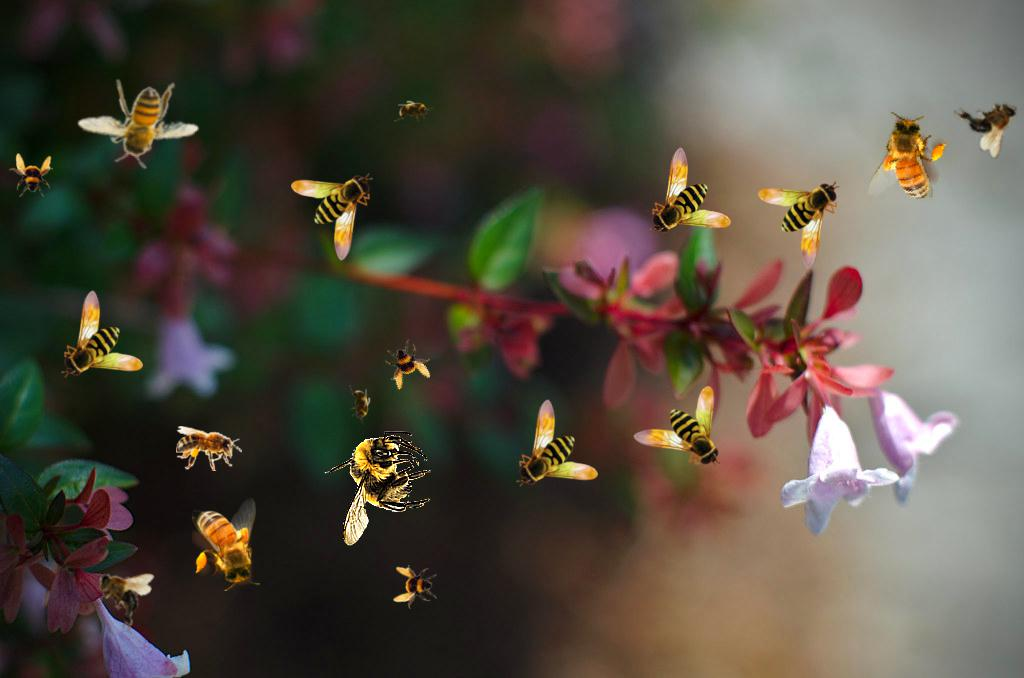Bee: (67, 57, 206, 187), (324, 431, 431, 546), (861, 105, 957, 216), (633, 386, 721, 468), (291, 173, 373, 261), (516, 399, 598, 487), (649, 147, 731, 235), (758, 181, 840, 269), (61, 290, 143, 378), (192, 498, 260, 591), (83, 554, 158, 634), (951, 79, 1024, 161), (378, 334, 438, 394), (176, 426, 242, 471), (393, 565, 437, 609), (9, 153, 53, 197), (349, 385, 371, 425), (394, 100, 434, 122)
